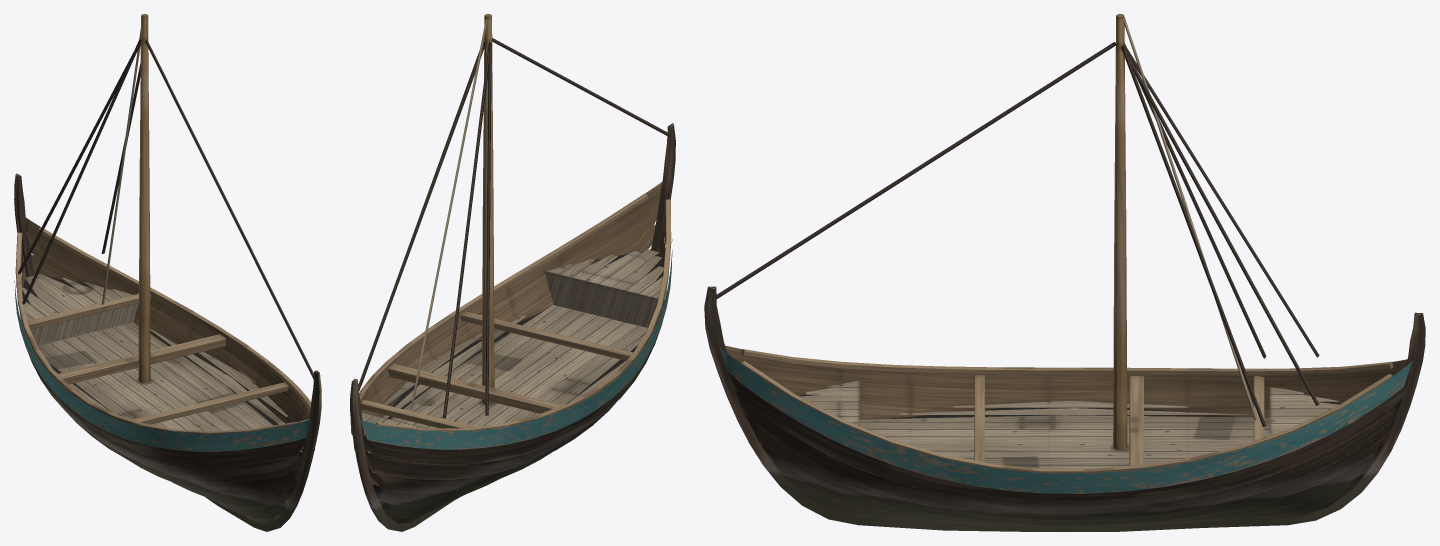
The model's file is DriftBoat_LOD2.gltf.
The picture shows the model from 3 angles, left to right: view 1: azimuth 30°, elevation 25°; view 2: azimuth 150°, elevation 25°; view 3: azimuth 270°, elevation 25°; orthographic projection. The views are drawn at different scales.
Parts seen in each view (by area): view 1: DriftBoat; view 2: DriftBoat; view 3: DriftBoat.
Boxes of the visible parts, bbox=[...] form: DriftBoat: bbox=[14, 14, 321, 531]; DriftBoat: bbox=[350, 14, 675, 531]; DriftBoat: bbox=[704, 14, 1425, 531].
Size of the model in its own units: 2.59 by 5.9 by 7.49.
Materials: 1 (1 with a texture image).
